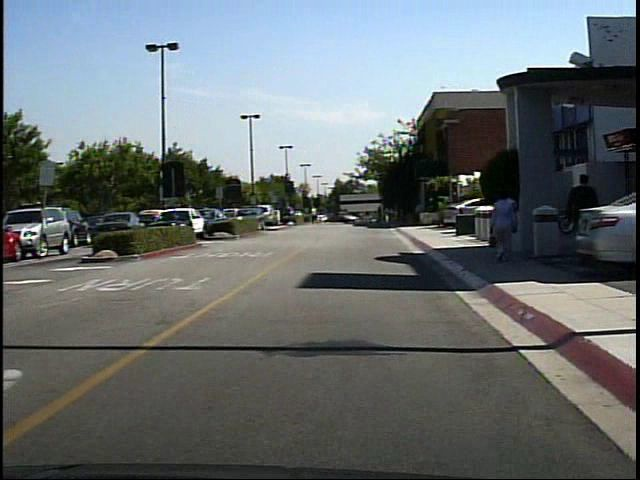person: (568, 169, 609, 269), (491, 188, 522, 267), (503, 189, 522, 263), (384, 205, 397, 229), (313, 203, 324, 228)
